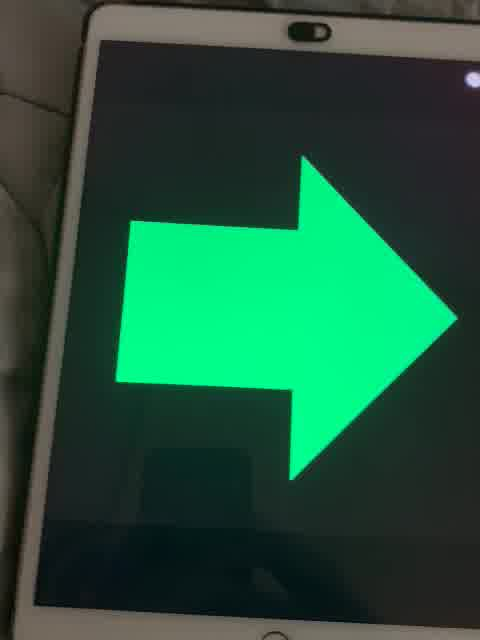right: (114, 143, 461, 483)
